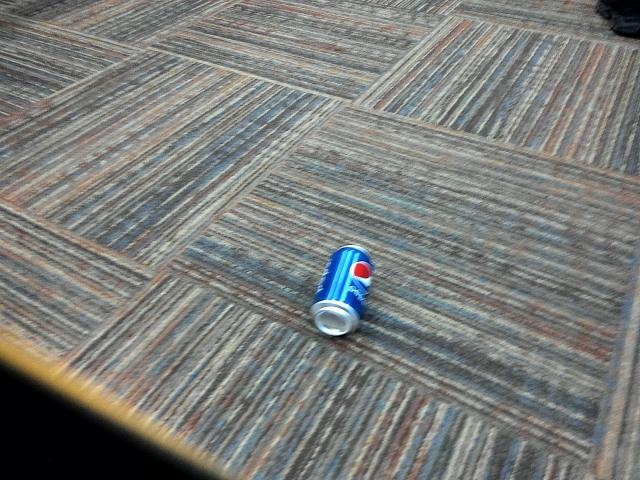can: (310, 240, 378, 341)
